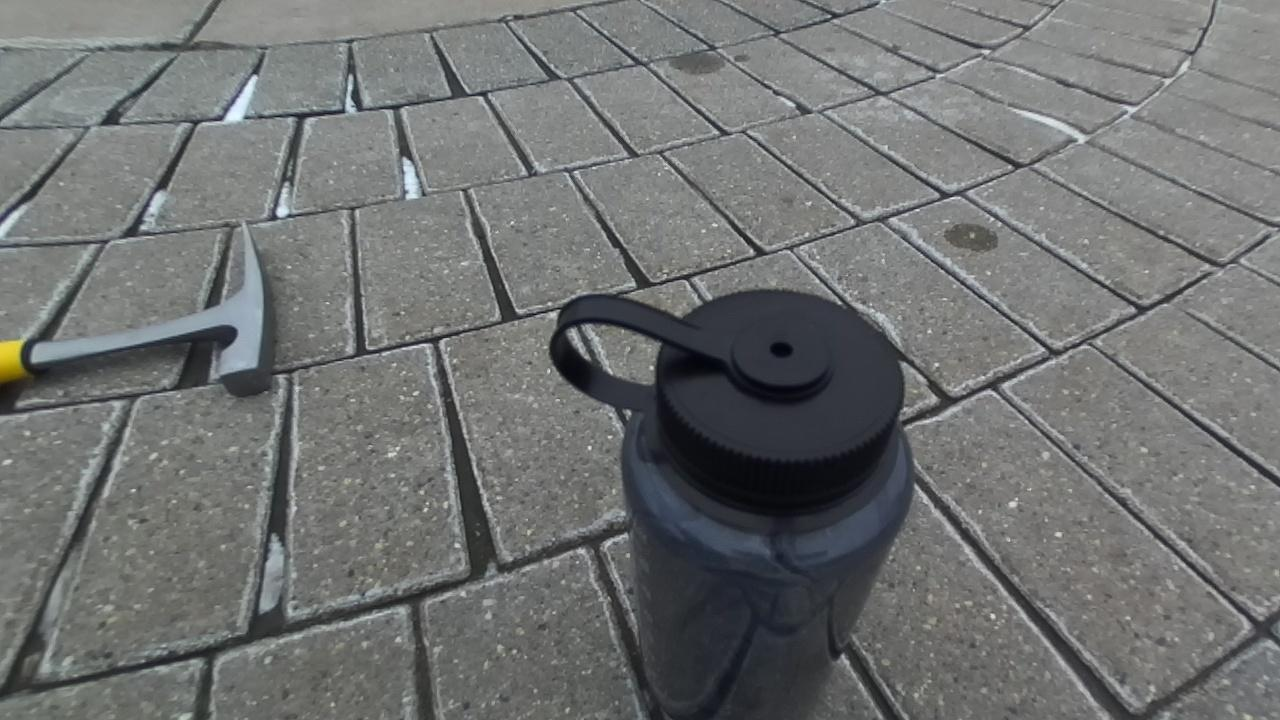bottle: (550, 290, 915, 719)
pick: (0, 223, 274, 396)
